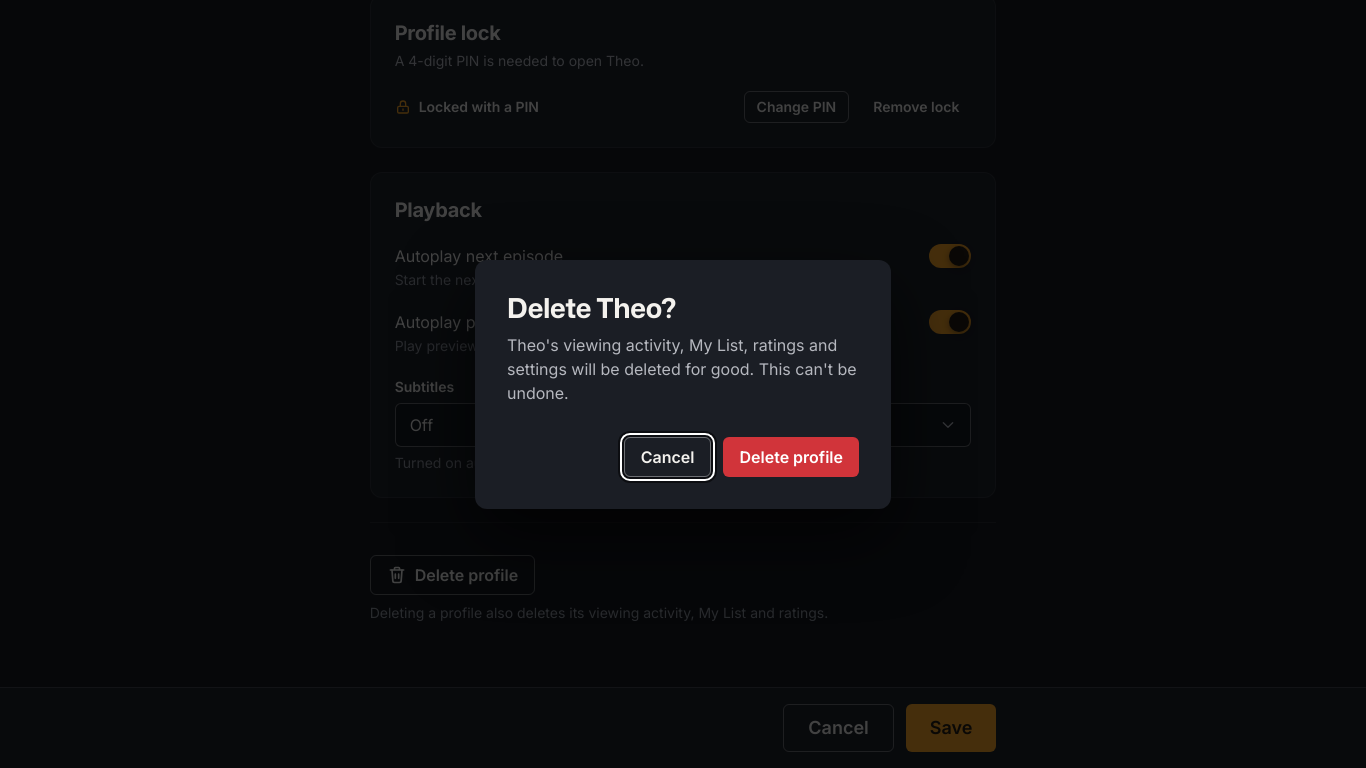
Test: a locked profile is its owner's › deleting it from the gate takes the account holder's proof instead of the PIN
Earlier steps of the test are not shown.
Later steps or results of the test are not shown.
(page scrolled)
Click the button "Delete profile". click: (791, 456)
box: [724,436,859,476]
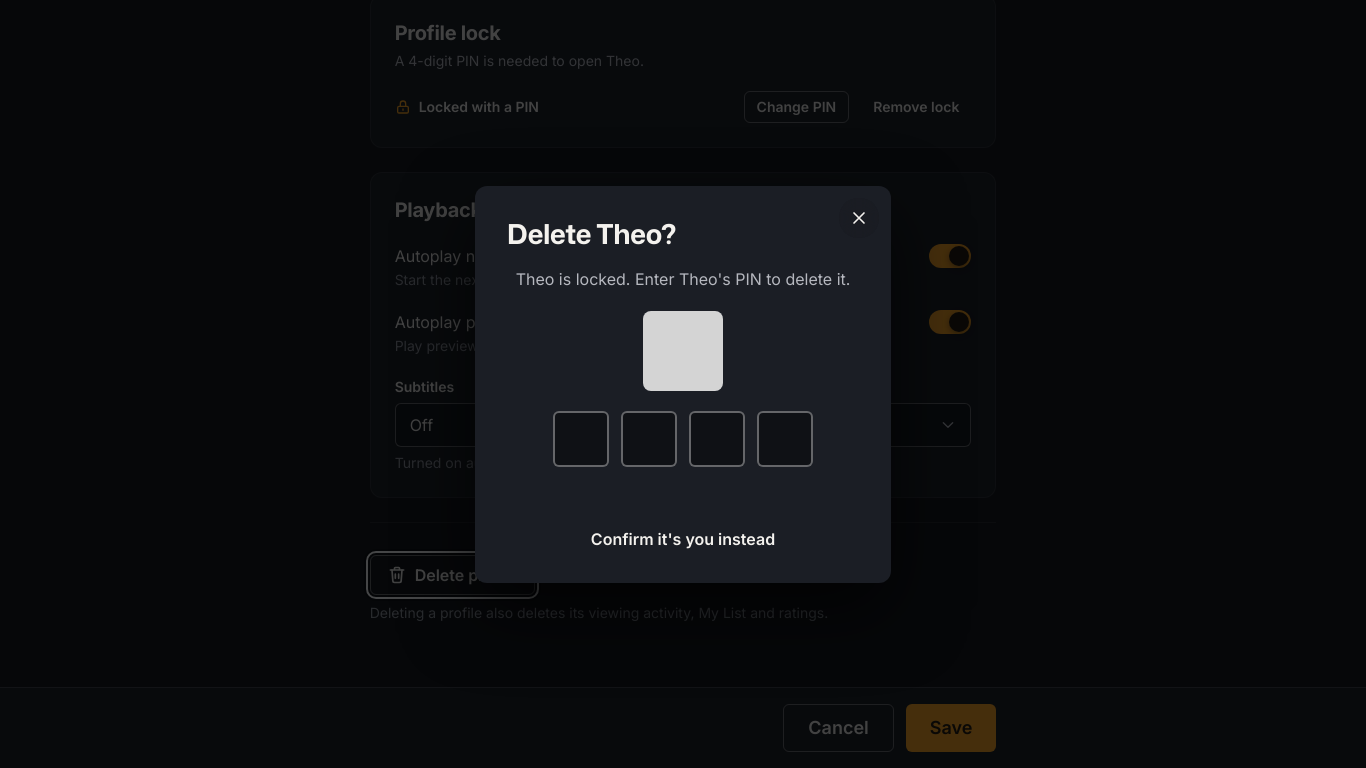
Click the button "Confirm it's you instead". click: (683, 538)
box: [591,526,775,550]
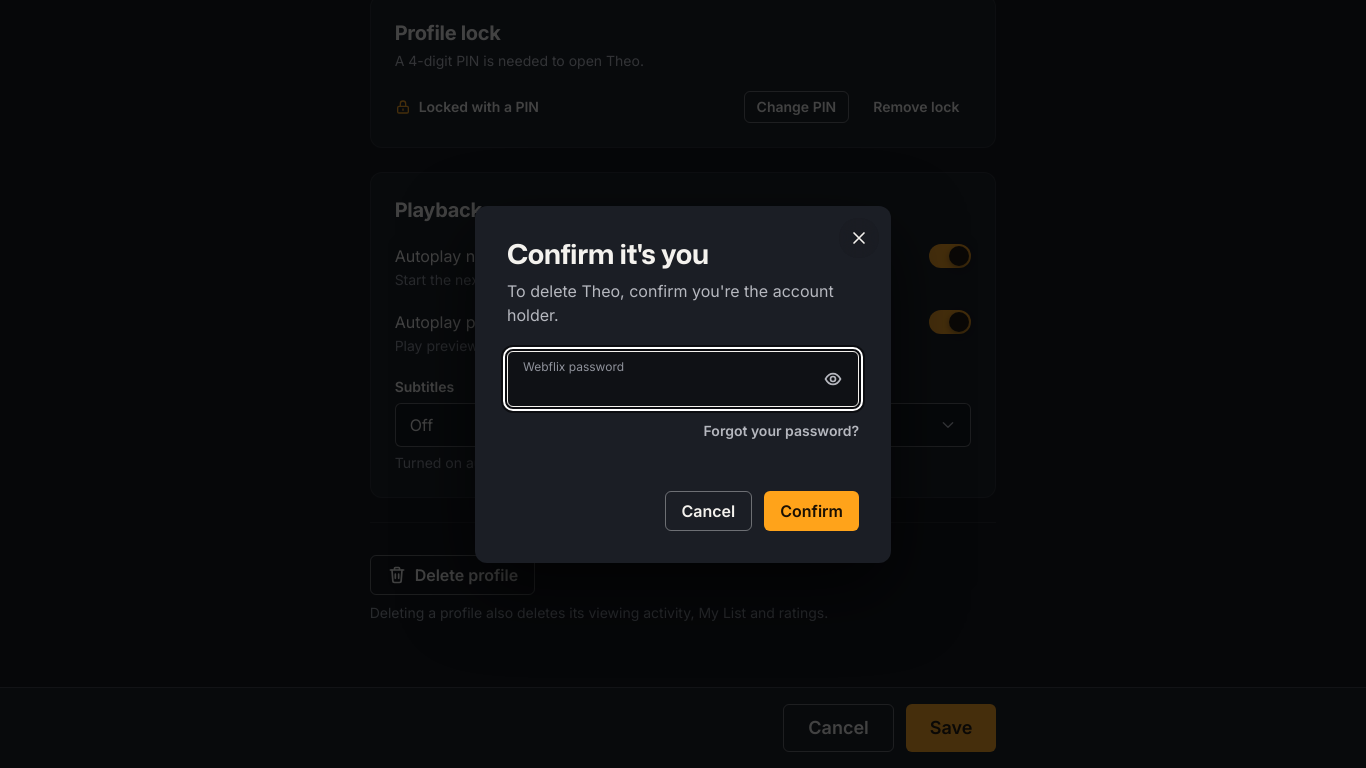
expect the dialog "Confirm it's you" shows "To delete Theo, confirm you're the account holder.": met, box [507,280,834,324]
